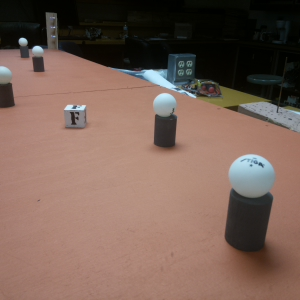obstacle: (225, 153, 273, 254), (153, 92, 178, 149), (1, 65, 15, 110), (31, 44, 45, 74), (18, 36, 28, 61)
